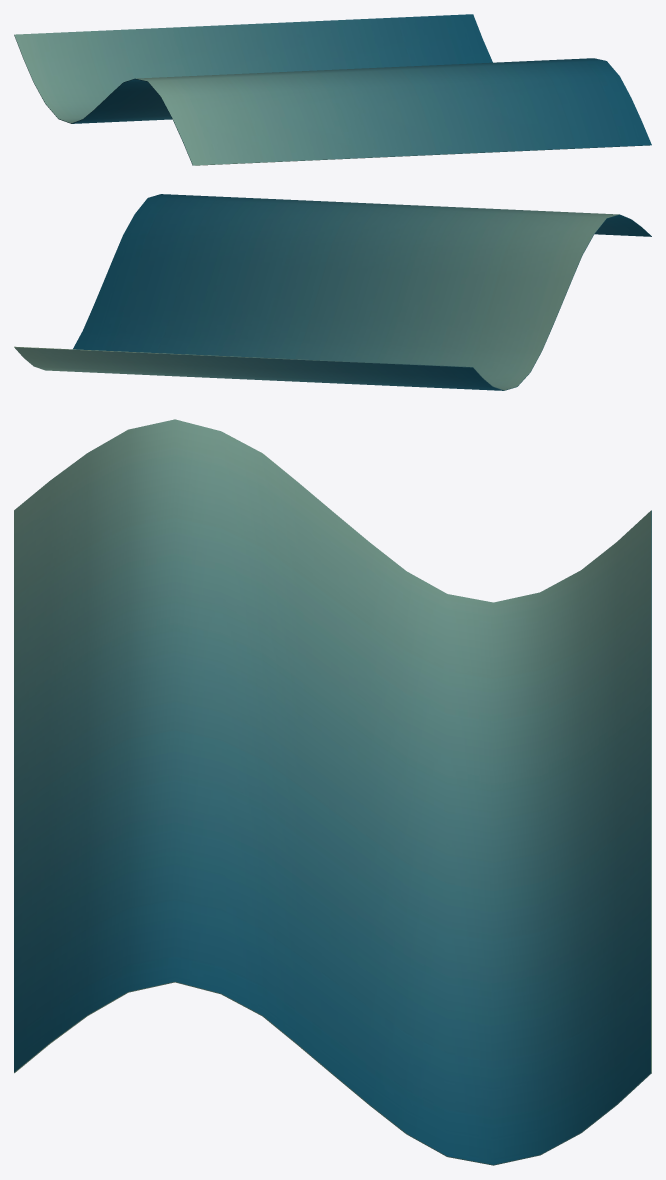
Rendered from y=senx+k 3D positivo recorrido.fbx.
3 views of the same model, one above another, from view 1: azimuth 30°, elevation 25°; view 2: azimuth 150°, elevation 25°; view 3: azimuth 270°, elevation 25° (orthographic). The views are drawn at different scales.
Visible parts, largest first — view 1: y_senx_k_k_menor_0_recorrido:Mesh; view 2: y_senx_k_k_menor_0_recorrido:Mesh; view 3: y_senx_k_k_menor_0_recorrido:Mesh.
Part boxes in pixels (bbox=[...]): y_senx_k_k_menor_0_recorrido:Mesh: bbox=[14, 14, 651, 165]; y_senx_k_k_menor_0_recorrido:Mesh: bbox=[14, 194, 651, 390]; y_senx_k_k_menor_0_recorrido:Mesh: bbox=[14, 419, 651, 1165].
Bounding box in the file's own units: 30.39 × 12.32 × 20.52.
